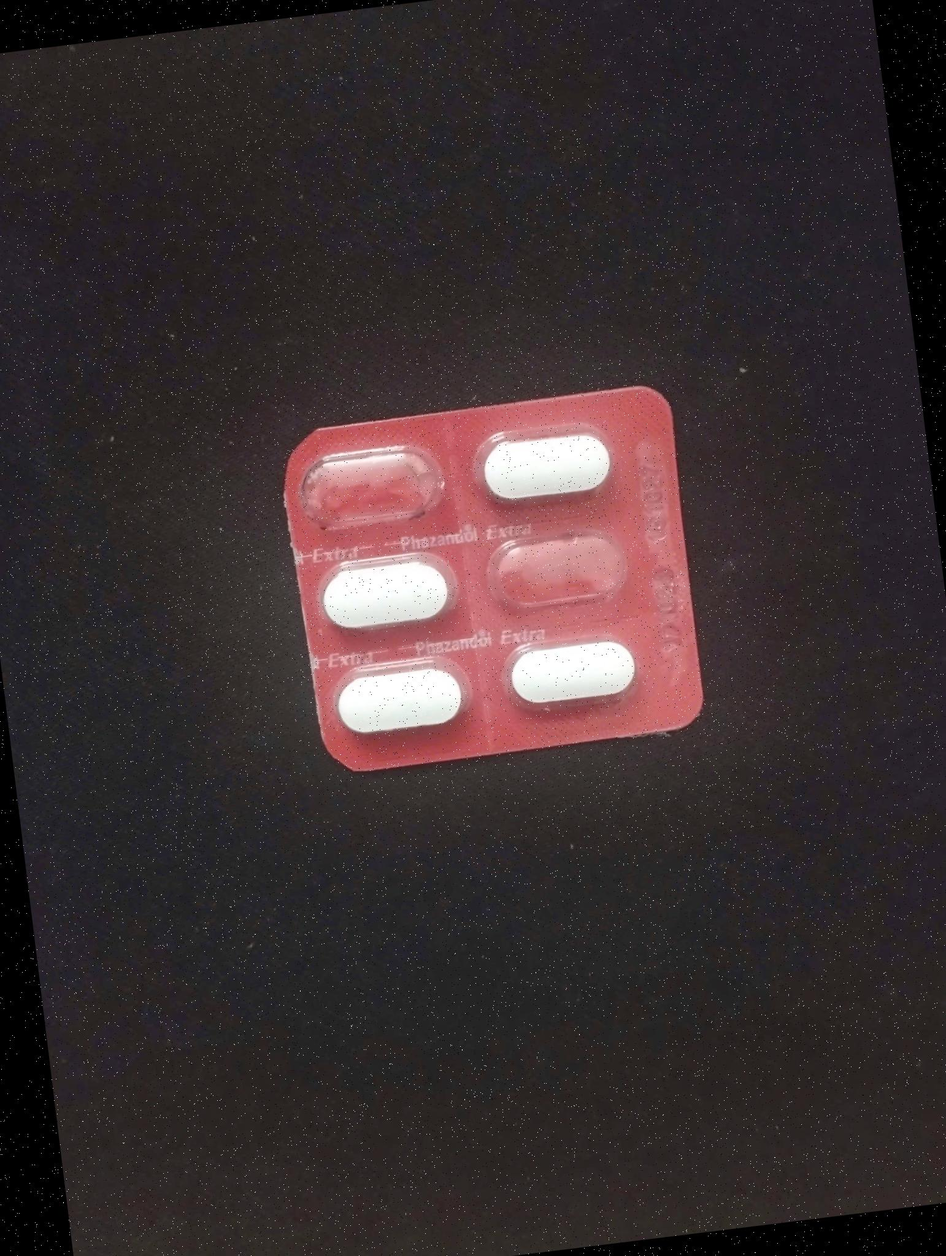Empty: (483, 525, 645, 626), (300, 445, 450, 537)
Full: (477, 419, 624, 519), (313, 548, 459, 639), (496, 633, 645, 721), (328, 656, 481, 741)
